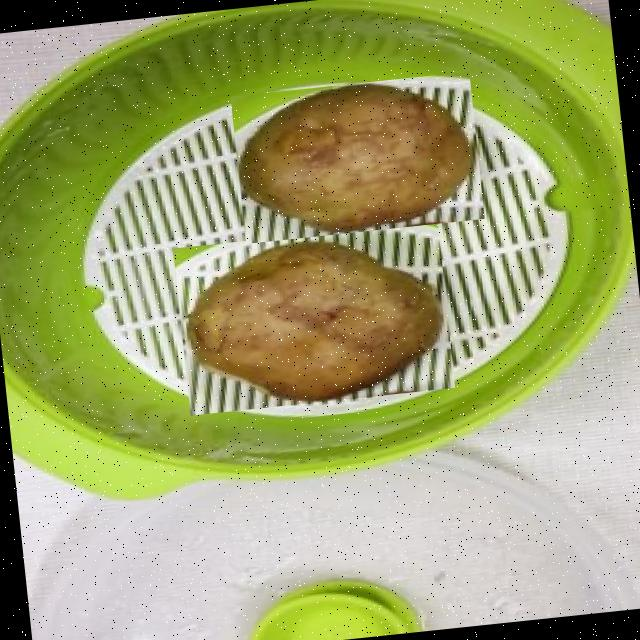Potato: (172, 219, 454, 414), (230, 70, 484, 242)
